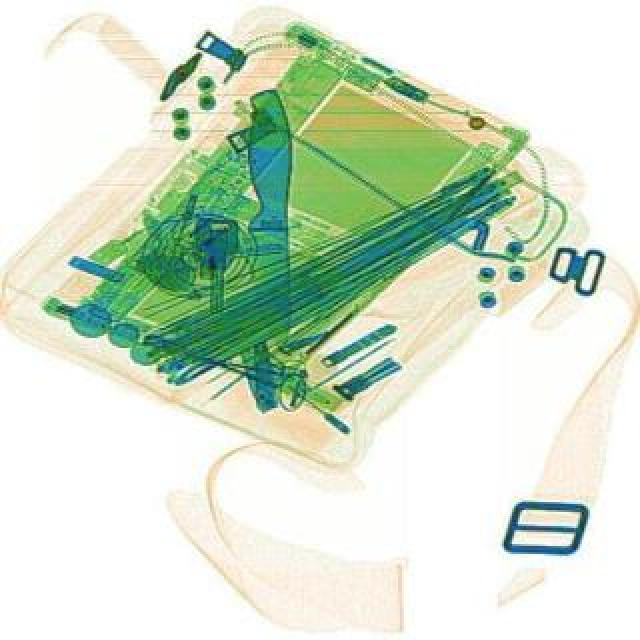knife: (238, 90, 302, 350)
